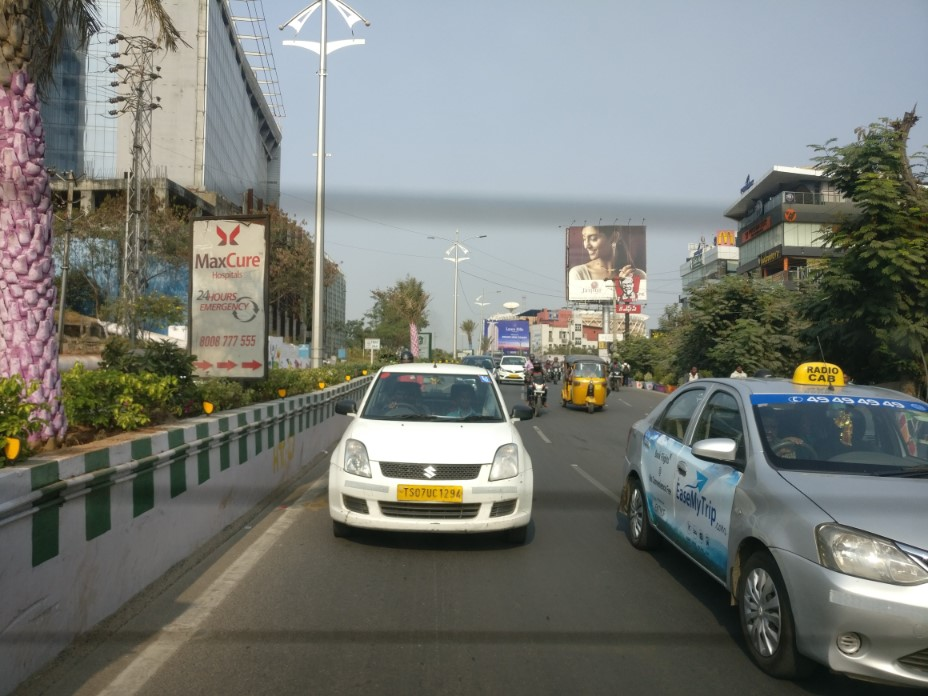swift desire: (326, 362, 534, 536)
